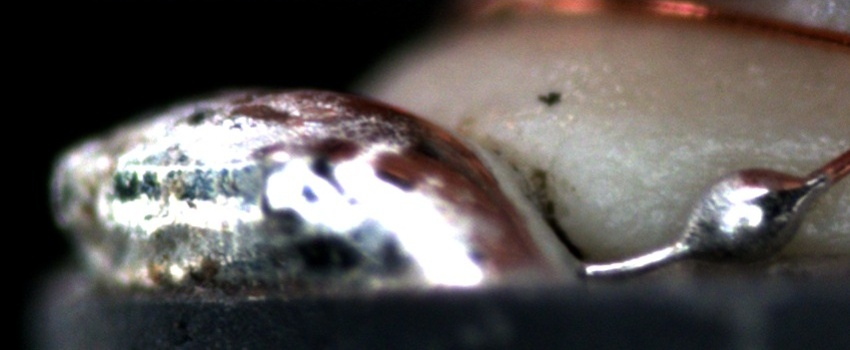DL: (706, 139, 849, 177)
TB: (675, 160, 821, 264)
TS: (580, 168, 832, 277)
TTCW: (575, 144, 849, 281)
